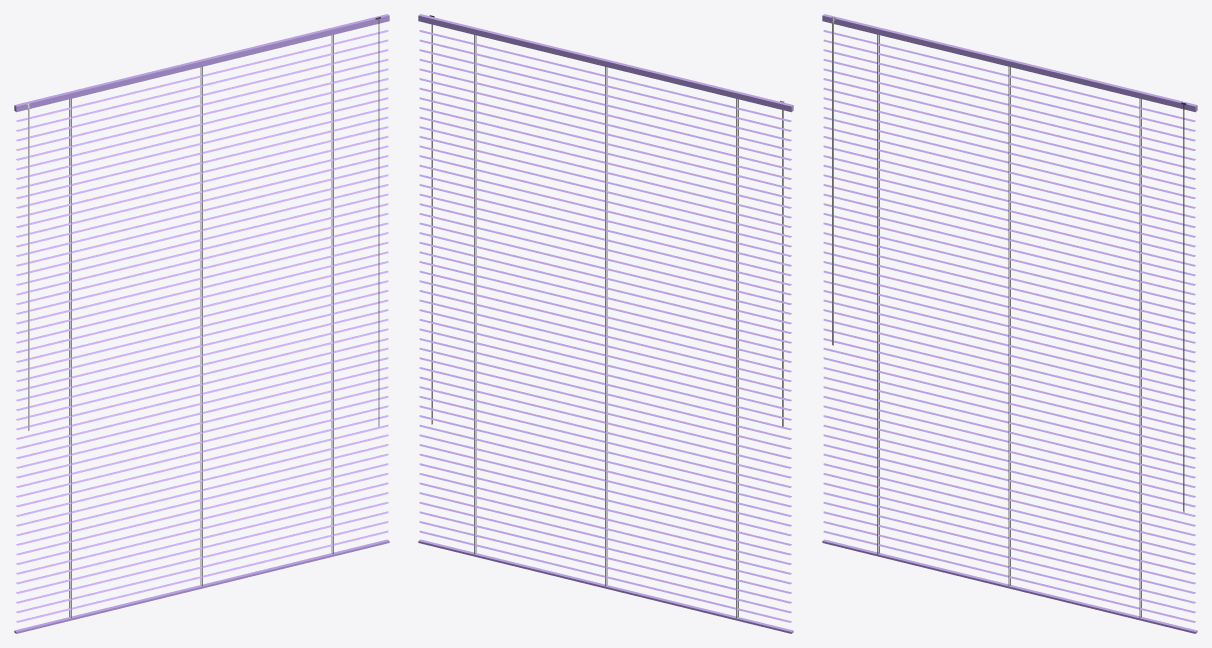
Rendered from ventianFrame 1.fbx.
The picture shows the model from 3 angles, left to right: view 1: azimuth 30°, elevation 25°; view 2: azimuth 150°, elevation 25°; view 3: azimuth 330°, elevation 25°; orthographic projection.
Visible parts, largest first — view 1: Venetian_slats, VenetianFrame, Venetian_base, String.L, String.C, String.R, Venetian_updown, Venetian_stick; view 2: Venetian_slats, VenetianFrame, Venetian_base, String.L, String.C, String.R, Venetian_updown, Venetian_stick; view 3: Venetian_slats, VenetianFrame, Venetian_base, String.L, String.C, String.R, Venetian_updown, Venetian_stick.
Part boxes in pixels (x1,y1,x2,y2): Venetian_slats: (16, 30, 388, 622); VenetianFrame: (14, 14, 389, 112); Venetian_base: (14, 539, 389, 633); String.L: (332, 35, 333, 553); String.C: (201, 67, 202, 585); String.R: (70, 99, 71, 617); Venetian_updown: (375, 17, 380, 426); Venetian_stick: (26, 102, 30, 430); Venetian_slats: (419, 30, 791, 622); VenetianFrame: (418, 14, 793, 112); Venetian_base: (418, 539, 793, 633); String.L: (474, 35, 475, 553); String.C: (605, 67, 606, 585); String.R: (736, 99, 737, 617); Venetian_updown: (429, 15, 434, 424); Venetian_stick: (780, 100, 784, 426); Venetian_slats: (823, 30, 1195, 622); VenetianFrame: (822, 14, 1197, 112); Venetian_base: (822, 539, 1197, 633); String.L: (1140, 99, 1141, 617); String.C: (1009, 67, 1010, 585); String.R: (878, 35, 879, 553); Venetian_updown: (1181, 102, 1186, 512); Venetian_stick: (831, 17, 835, 345).
Size of the model in its own units: 418 by 565 by 5.99.
